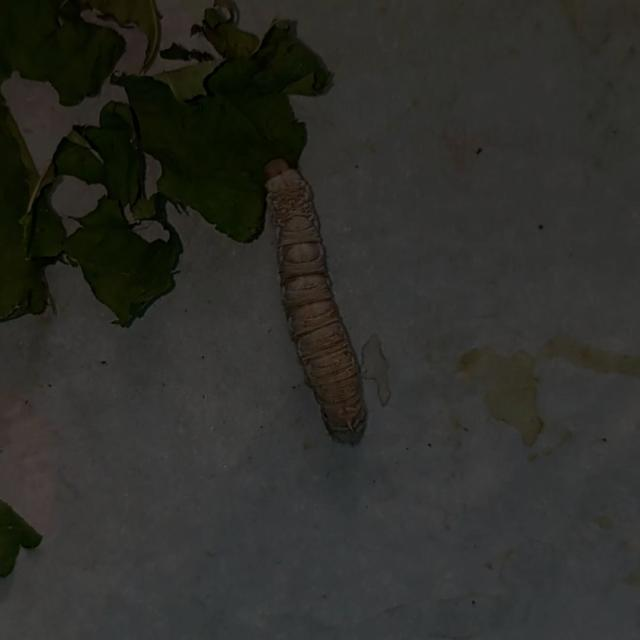Grasserie: (243, 147, 385, 447)
